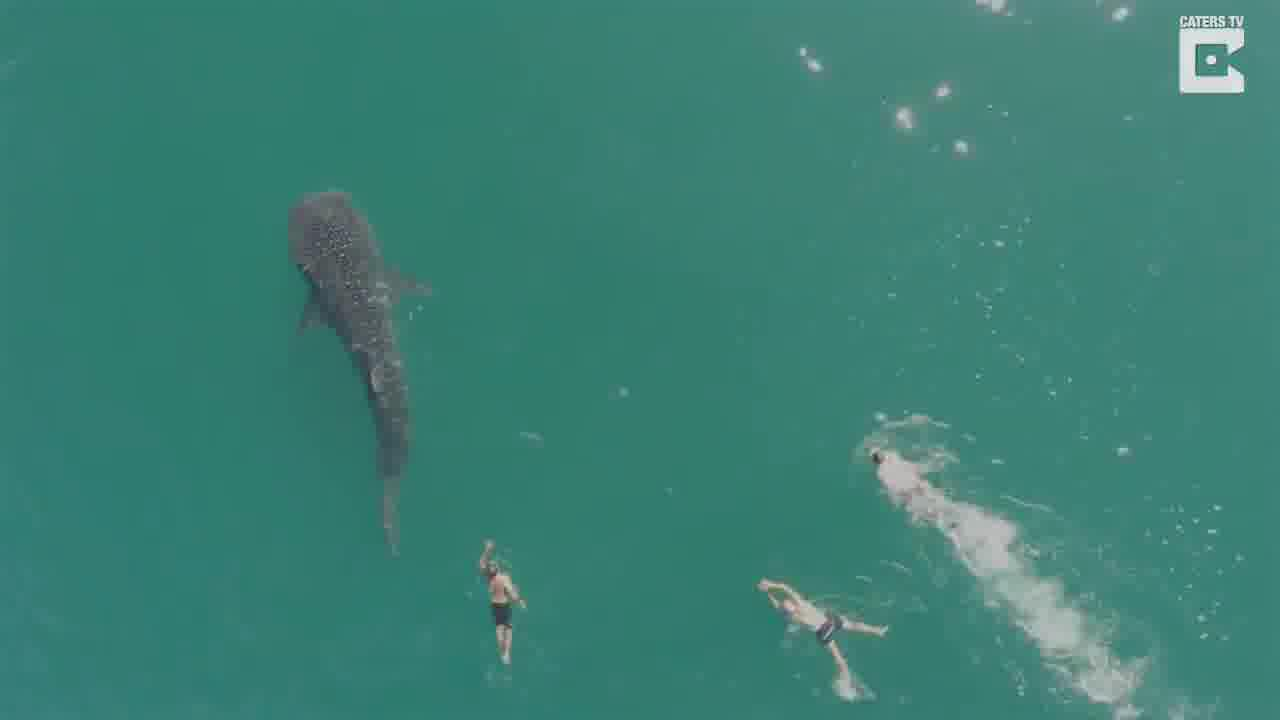human: (746, 573, 908, 690), (470, 534, 542, 659)
